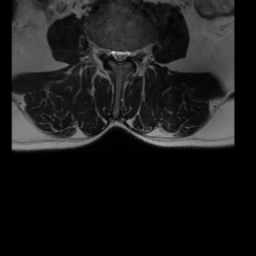CCS_severe_stenosis: (117, 45, 123, 70)
LFS_normal: (129, 45, 137, 63)
LLS_stenosis: (123, 45, 130, 63)
RFS_normal: (103, 44, 111, 63)
RLS_stenosis: (111, 45, 117, 63)
